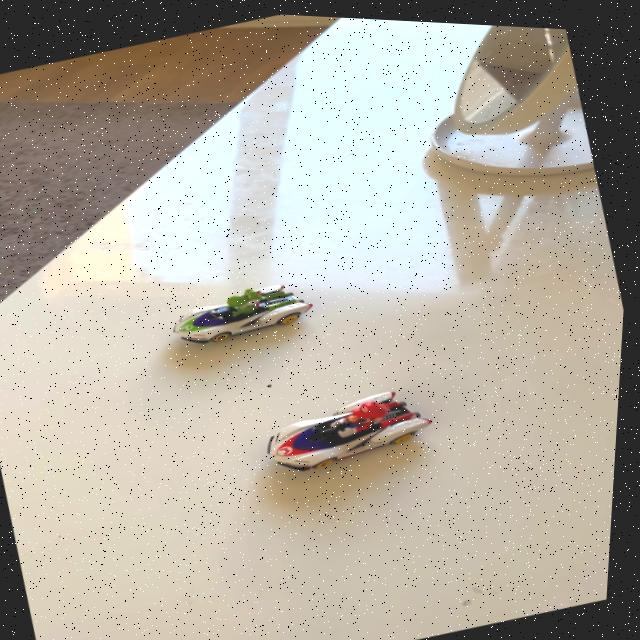mario: (253, 369, 458, 491)
yoshi: (158, 254, 338, 363)
